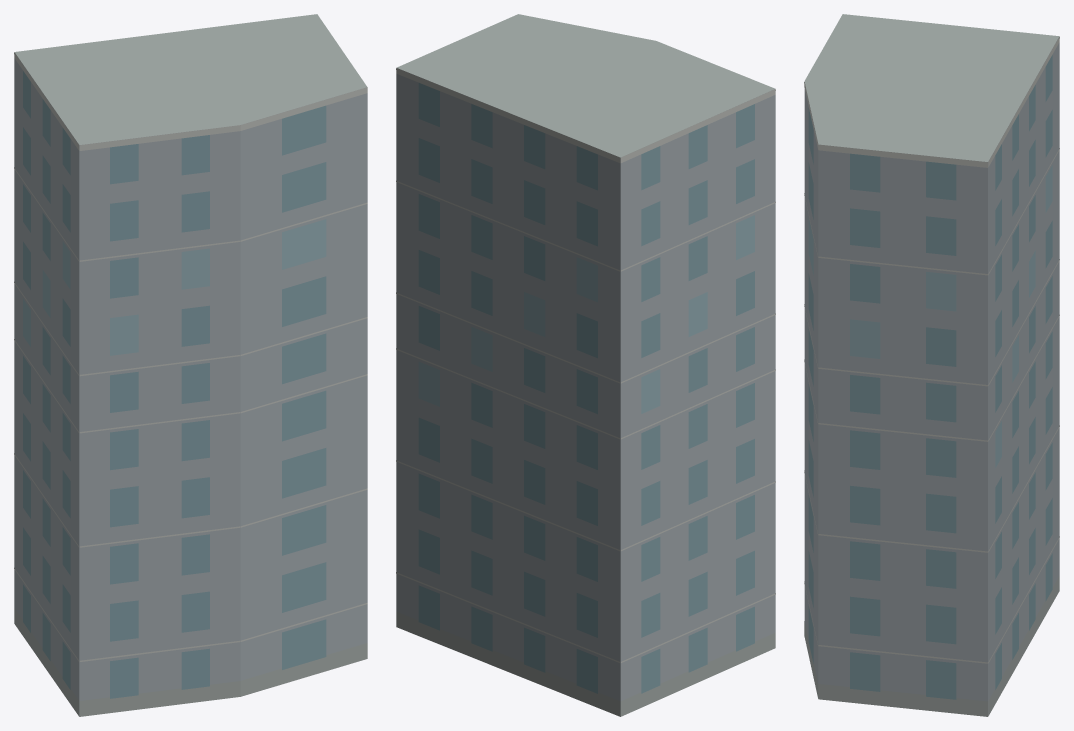
Rendered from survey-upis-33014779.glb.
3 views of the same model, side by side, from view 1: azimuth 30°, elevation 25°; view 2: azimuth 150°, elevation 25°; view 3: azimuth 270°, elevation 25° (orthographic). The views are drawn at different scales.
Parts seen in each view (by area): view 1: survey-upis-33014779.tmp; view 2: survey-upis-33014779.tmp; view 3: survey-upis-33014779.tmp.
Boxes of the visible parts, bbox=[...] form: survey-upis-33014779.tmp: bbox=[14, 14, 367, 716]; survey-upis-33014779.tmp: bbox=[396, 14, 775, 716]; survey-upis-33014779.tmp: bbox=[804, 14, 1059, 716].
Bounding box in the file's own units: 13.25 × 23.1 × 9.65.
